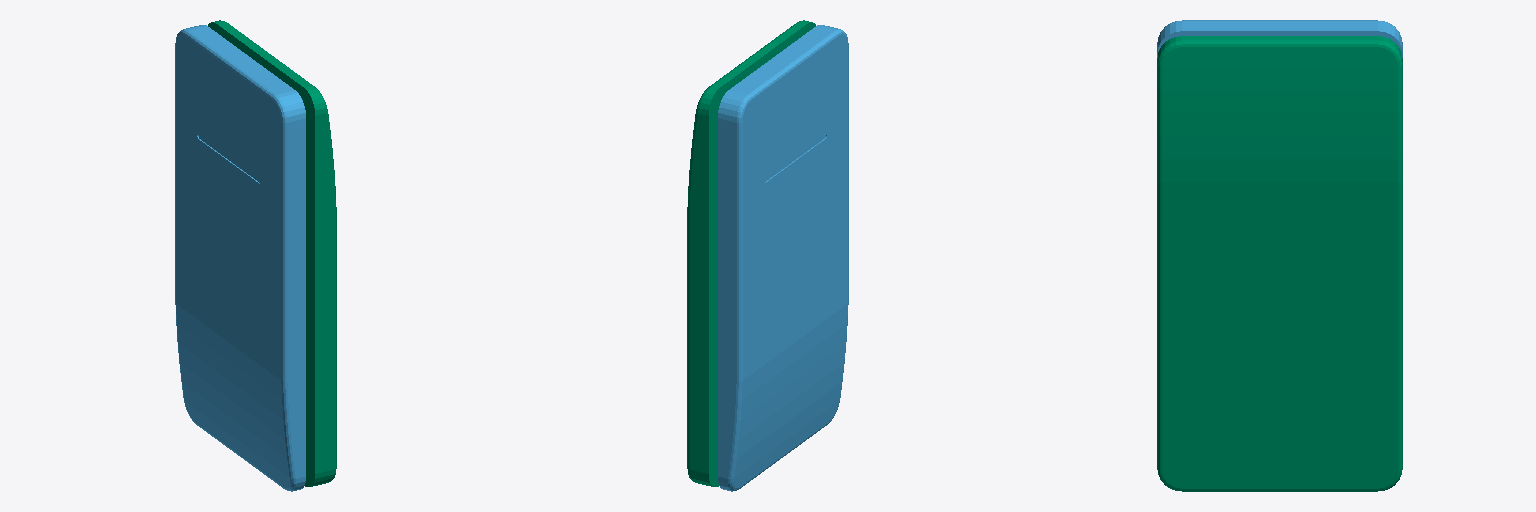
--- What the picture shows (computed from the rendered views, not written in the file) ---
The picture shows the robot from 3 angles, left to right: view 1: azimuth 30°, elevation 25°; view 2: azimuth 150°, elevation 25°; view 3: azimuth 270°, elevation 25°; orthographic projection.
Robot: partnet_86f9108ac5df3150afeee5da21ab102b-0 — 3 links, 2 joints (1 prismatic, 1 fixed); root link base; default pose: all joints at 0.
Visible links, largest first — view 1: link_0, link_1; view 2: link_0, link_1; view 3: link_1, link_0.
Boxes of the visible links, x1=… form: link_0: x1=175, y1=25, x2=305, y2=491; link_1: x1=208, y1=20, x2=336, y2=486; link_0: x1=718, y1=25, x2=848, y2=491; link_1: x1=687, y1=20, x2=815, y2=486; link_1: x1=1157, y1=36, x2=1402, y2=491; link_0: x1=1157, y1=20, x2=1402, y2=57.
Bounding box of the posed robot: 0.2607 × 0.9076 × 1.82 m (x, y, z).
120 mesh visuals loaded from 120 distinct referenced files (120 OBJ).

The robot description file, URDF, robot "partnet_86f9108ac5df3150afeee5da21ab102b-0":
<?xml version="1.0" ?>
<robot name="partnet_86f9108ac5df3150afeee5da21ab102b-0">
	<link name="base"/>
	<link name="link_0">
		<visual name="translation_lid-5">
			<origin xyz="0 0 0"/>
			<geometry>
				<mesh filename="textured_objs/original-119.obj"/>
			</geometry>
		</visual>
		<visual name="translation_lid-5">
			<origin xyz="0 0 0"/>
			<geometry>
				<mesh filename="textured_objs/original-114.obj"/>
			</geometry>
		</visual>
		<visual name="translation_lid-5">
			<origin xyz="0 0 0"/>
			<geometry>
				<mesh filename="textured_objs/original-112.obj"/>
			</geometry>
		</visual>
		<visual name="translation_lid-5">
			<origin xyz="0 0 0"/>
			<geometry>
				<mesh filename="textured_objs/original-115.obj"/>
			</geometry>
		</visual>
		<visual name="translation_lid-5">
			<origin xyz="0 0 0"/>
			<geometry>
				<mesh filename="textured_objs/original-122.obj"/>
			</geometry>
		</visual>
		<visual name="translation_lid-5">
			<origin xyz="0 0 0"/>
			<geometry>
				<mesh filename="textured_objs/original-121.obj"/>
			</geometry>
		</visual>
		<visual name="translation_lid-5">
			<origin xyz="0 0 0"/>
			<geometry>
				<mesh filename="textured_objs/original-113.obj"/>
			</geometry>
		</visual>
		<visual name="translation_lid-5">
			<origin xyz="0 0 0"/>
			<geometry>
				<mesh filename="textured_objs/original-107.obj"/>
			</geometry>
		</visual>
		<visual name="translation_lid-5">
			<origin xyz="0 0 0"/>
			<geometry>
				<mesh filename="textured_objs/original-106.obj"/>
			</geometry>
		</visual>
		<visual name="translation_lid-5">
			<origin xyz="0 0 0"/>
			<geometry>
				<mesh filename="textured_objs/original-120.obj"/>
			</geometry>
		</visual>
		<visual name="translation_lid-5">
			<origin xyz="0 0 0"/>
			<geometry>
				<mesh filename="textured_objs/original-116.obj"/>
			</geometry>
		</visual>
		<visual name="translation_lid-5">
			<origin xyz="0 0 0"/>
			<geometry>
				<mesh filename="textured_objs/original-109.obj"/>
			</geometry>
		</visual>
		<visual name="translation_lid-5">
			<origin xyz="0 0 0"/>
			<geometry>
				<mesh filename="textured_objs/original-111.obj"/>
			</geometry>
		</visual>
		<visual name="translation_lid-5">
			<origin xyz="0 0 0"/>
			<geometry>
				<mesh filename="textured_objs/original-118.obj"/>
			</geometry>
		</visual>
		<visual name="translation_lid-5">
			<origin xyz="0 0 0"/>
			<geometry>
				<mesh filename="textured_objs/original-108.obj"/>
			</geometry>
		</visual>
		<visual name="translation_lid-5">
			<origin xyz="0 0 0"/>
			<geometry>
				<mesh filename="textured_objs/original-117.obj"/>
			</geometry>
		</visual>
		<visual name="translation_lid-5">
			<origin xyz="0 0 0"/>
			<geometry>
				<mesh filename="textured_objs/original-110.obj"/>
			</geometry>
		</visual>
		<collision>
			<origin xyz="0 0 0"/>
			<geometry>
				<mesh filename="textured_objs/original-119.obj"/>
			</geometry>
		</collision>
		<collision>
			<origin xyz="0 0 0"/>
			<geometry>
				<mesh filename="textured_objs/original-114.obj"/>
			</geometry>
		</collision>
		<collision>
			<origin xyz="0 0 0"/>
			<geometry>
				<mesh filename="textured_objs/original-112.obj"/>
			</geometry>
		</collision>
		<collision>
			<origin xyz="0 0 0"/>
			<geometry>
				<mesh filename="textured_objs/original-115.obj"/>
			</geometry>
		</collision>
		<collision>
			<origin xyz="0 0 0"/>
			<geometry>
				<mesh filename="textured_objs/original-122.obj"/>
			</geometry>
		</collision>
		<collision>
			<origin xyz="0 0 0"/>
			<geometry>
				<mesh filename="textured_objs/original-121.obj"/>
			</geometry>
		</collision>
		<collision>
			<origin xyz="0 0 0"/>
			<geometry>
				<mesh filename="textured_objs/original-113.obj"/>
			</geometry>
		</collision>
		<collision>
			<origin xyz="0 0 0"/>
			<geometry>
				<mesh filename="textured_objs/original-107.obj"/>
			</geometry>
		</collision>
		<collision>
			<origin xyz="0 0 0"/>
			<geometry>
				<mesh filename="textured_objs/original-106.obj"/>
			</geometry>
		</collision>
		<collision>
			<origin xyz="0 0 0"/>
			<geometry>
				<mesh filename="textured_objs/original-120.obj"/>
			</geometry>
		</collision>
		<collision>
			<origin xyz="0 0 0"/>
			<geometry>
				<mesh filename="textured_objs/original-116.obj"/>
			</geometry>
		</collision>
		<collision>
			<origin xyz="0 0 0"/>
			<geometry>
				<mesh filename="textured_objs/original-109.obj"/>
			</geometry>
		</collision>
		<collision>
			<origin xyz="0 0 0"/>
			<geometry>
				<mesh filename="textured_objs/original-111.obj"/>
			</geometry>
		</collision>
		<collision>
			<origin xyz="0 0 0"/>
			<geometry>
				<mesh filename="textured_objs/original-118.obj"/>
			</geometry>
		</collision>
		<collision>
			<origin xyz="0 0 0"/>
			<geometry>
				<mesh filename="textured_objs/original-108.obj"/>
			</geometry>
		</collision>
		<collision>
			<origin xyz="0 0 0"/>
			<geometry>
				<mesh filename="textured_objs/original-117.obj"/>
			</geometry>
		</collision>
		<collision>
			<origin xyz="0 0 0"/>
			<geometry>
				<mesh filename="textured_objs/original-110.obj"/>
			</geometry>
		</collision>
	</link>
	<joint name="joint_0" type="prismatic">
		<origin xyz="0 0 0"/>
		<axis xyz="0 1 0"/>
		<child link="link_0"/>
		<parent link="link_1"/>
		<limit lower="0" upper="1.6"/>
	</joint>
	<link name="link_1">
		<visual name="button-1">
			<origin xyz="0 0 0"/>
			<geometry>
				<mesh filename="textured_objs/original-53.obj"/>
			</geometry>
		</visual>
		<visual name="button-1">
			<origin xyz="0 0 0"/>
			<geometry>
				<mesh filename="textured_objs/original-68.obj"/>
			</geometry>
		</visual>
		<visual name="button-1">
			<origin xyz="0 0 0"/>
			<geometry>
				<mesh filename="textured_objs/original-55.obj"/>
			</geometry>
		</visual>
		<visual name="button-1">
			<origin xyz="0 0 0"/>
			<geometry>
				<mesh filename="textured_objs/original-66.obj"/>
			</geometry>
		</visual>
		<visual name="button-2">
			<origin xyz="0 0 0"/>
			<geometry>
				<mesh filename="textured_objs/original-3.obj"/>
			</geometry>
		</visual>
		<visual name="button-3">
			<origin xyz="0 0 0"/>
			<geometry>
				<mesh filename="textured_objs/original-54.obj"/>
			</geometry>
		</visual>
		<visual name="button-3">
			<origin xyz="0 0 0"/>
			<geometry>
				<mesh filename="textured_objs/original-65.obj"/>
			</geometry>
		</visual>
		<visual name="button-4">
			<origin xyz="0 0 0"/>
			<geometry>
				<mesh filename="textured_objs/original-69.obj"/>
			</geometry>
		</visual>
		<visual name="button-6">
			<origin xyz="0 0 0"/>
			<geometry>
				<mesh filename="textured_objs/original-67.obj"/>
			</geometry>
		</visual>
		<visual name="base_body-7">
			<origin xyz="0 0 0"/>
			<geometry>
				<mesh filename="textured_objs/original-29.obj"/>
			</geometry>
		</visual>
		<visual name="base_body-7">
			<origin xyz="0 0 0"/>
			<geometry>
				<mesh filename="textured_objs/original-103.obj"/>
			</geometry>
		</visual>
		<visual name="base_body-7">
			<origin xyz="0 0 0"/>
			<geometry>
				<mesh filename="textured_objs/original-100.obj"/>
			</geometry>
		</visual>
		<visual name="base_body-7">
			<origin xyz="0 0 0"/>
			<geometry>
				<mesh filename="textured_objs/original-21.obj"/>
			</geometry>
		</visual>
		<visual name="base_body-7">
			<origin xyz="0 0 0"/>
			<geometry>
				<mesh filename="textured_objs/original-30.obj"/>
			</geometry>
		</visual>
		<visual name="base_body-7">
			<origin xyz="0 0 0"/>
			<geometry>
				<mesh filename="textured_objs/original-36.obj"/>
			</geometry>
		</visual>
		<visual name="base_body-7">
			<origin xyz="0 0 0"/>
			<geometry>
				<mesh filename="textured_objs/original-41.obj"/>
			</geometry>
		</visual>
		<visual name="base_body-7">
			<origin xyz="0 0 0"/>
			<geometry>
				<mesh filename="textured_objs/original-28.obj"/>
			</geometry>
		</visual>
		<visual name="base_body-7">
			<origin xyz="0 0 0"/>
			<geometry>
				<mesh filename="textured_objs/original-96.obj"/>
			</geometry>
		</visual>
		<visual name="base_body-7">
			<origin xyz="0 0 0"/>
			<geometry>
				<mesh filename="textured_objs/original-64.obj"/>
			</geometry>
		</visual>
		<visual name="base_body-7">
			<origin xyz="0 0 0"/>
			<geometry>
				<mesh filename="textured_objs/original-43.obj"/>
			</geometry>
		</visual>
		<visual name="base_body-7">
			<origin xyz="0 0 0"/>
			<geometry>
				<mesh filename="textured_objs/original-71.obj"/>
			</geometry>
		</visual>
		<visual name="base_body-7">
			<origin xyz="0 0 0"/>
			<geometry>
				<mesh filename="textured_objs/original-52.obj"/>
			</geometry>
		</visual>
		<visual name="base_body-7">
			<origin xyz="0 0 0"/>
			<geometry>
				<mesh filename="textured_objs/original-83.obj"/>
			</geometry>
		</visual>
		<visual name="base_body-7">
			<origin xyz="0 0 0"/>
			<geometry>
				<mesh filename="textured_objs/original-22.obj"/>
			</geometry>
		</visual>
		<visual name="base_body-7">
			<origin xyz="0 0 0"/>
			<geometry>
				<mesh filename="textured_objs/original-26.obj"/>
			</geometry>
		</visual>
		<visual name="base_body-7">
			<origin xyz="0 0 0"/>
			<geometry>
				<mesh filename="textured_objs/original-104.obj"/>
			</geometry>
		</visual>
		<visual name="base_body-7">
			<origin xyz="0 0 0"/>
			<geometry>
				<mesh filename="textured_objs/original-4.obj"/>
			</geometry>
		</visual>
		<visual name="base_body-7">
			<origin xyz="0 0 0"/>
			<geometry>
				<mesh filename="textured_objs/original-33.obj"/>
			</geometry>
		</visual>
		<visual name="base_body-7">
			<origin xyz="0 0 0"/>
			<geometry>
				<mesh filename="textured_objs/original-44.obj"/>
			</geometry>
		</visual>
		<visual name="base_body-7">
			<origin xyz="0 0 0"/>
			<geometry>
				<mesh filename="textured_objs/original-16.obj"/>
			</geometry>
		</visual>
		<visual name="base_body-7">
			<origin xyz="0 0 0"/>
			<geometry>
				<mesh filename="textured_objs/original-86.obj"/>
			</geometry>
		</visual>
		<visual name="base_body-7">
			<origin xyz="0 0 0"/>
			<geometry>
				<mesh filename="textured_objs/original-8.obj"/>
			</geometry>
		</visual>
		<visual name="base_body-7">
			<origin xyz="0 0 0"/>
			<geometry>
				<mesh filename="textured_objs/original-13.obj"/>
			</geometry>
		</visual>
		<visual name="base_body-7">
			<origin xyz="0 0 0"/>
			<geometry>
				<mesh filename="textured_objs/original-9.obj"/>
			</geometry>
		</visual>
		<visual name="base_body-7">
			<origin xyz="0 0 0"/>
			<geometry>
				<mesh filename="textured_objs/original-45.obj"/>
			</geometry>
		</visual>
		<visual name="base_body-7">
			<origin xyz="0 0 0"/>
			<geometry>
				<mesh filename="textured_objs/original-35.obj"/>
			</geometry>
		</visual>
		<visual name="base_body-7">
			<origin xyz="0 0 0"/>
			<geometry>
				<mesh filename="textured_objs/original-49.obj"/>
			</geometry>
		</visual>
		<visual name="base_body-7">
			<origin xyz="0 0 0"/>
			<geometry>
				<mesh filename="textured_objs/original-93.obj"/>
			</geometry>
		</visual>
		<visual name="base_body-7">
			<origin xyz="0 0 0"/>
			<geometry>
				<mesh filename="textured_objs/original-61.obj"/>
			</geometry>
		</visual>
		<visual name="base_body-7">
			<origin xyz="0 0 0"/>
			<geometry>
				<mesh filename="textured_objs/original-39.obj"/>
			</geometry>
		</visual>
		<visual name="base_body-7">
			<origin xyz="0 0 0"/>
			<geometry>
				<mesh filename="textured_objs/original-59.obj"/>
			</geometry>
		</visual>
		<visual name="base_body-7">
			<origin xyz="0 0 0"/>
			<geometry>
				<mesh filename="textured_objs/original-5.obj"/>
			</geometry>
		</visual>
		<visual name="base_body-7">
			<origin xyz="0 0 0"/>
			<geometry>
				<mesh filename="textured_objs/original-77.obj"/>
			</geometry>
		</visual>
		<visual name="base_body-7">
			<origin xyz="0 0 0"/>
			<geometry>
				<mesh filename="textured_objs/original-63.obj"/>
			</geometry>
		</visual>
		<visual name="base_body-7">
			<origin xyz="0 0 0"/>
			<geometry>
				<mesh filename="textured_objs/original-27.obj"/>
			</geometry>
		</visual>
		<visual name="base_body-7">
			<origin xyz="0 0 0"/>
			<geometry>
				<mesh filename="textured_objs/original-87.obj"/>
			</geometry>
		</visual>
		<visual name="base_body-7">
			<origin xyz="0 0 0"/>
			<geometry>
				<mesh filename="textured_objs/original-51.obj"/>
			</geometry>
		</visual>
		<visual name="base_body-7">
			<origin xyz="0 0 0"/>
			<geometry>
				<mesh filename="textured_objs/original-50.obj"/>
			</geometry>
		</visual>
		<visual name="base_body-7">
			<origin xyz="0 0 0"/>
			<geometry>
				<mesh filename="textured_objs/original-6.obj"/>
			</geometry>
		</visual>
		<visual name="base_body-7">
			<origin xyz="0 0 0"/>
			<geometry>
				<mesh filename="textured_objs/original-31.obj"/>
			</geometry>
		</visual>
		<visual name="base_body-7">
			<origin xyz="0 0 0"/>
			<geometry>
				<mesh filename="textured_objs/original-37.obj"/>
			</geometry>
		</visual>
		<visual name="base_body-7">
			<origin xyz="0 0 0"/>
			<geometry>
				<mesh filename="textured_objs/original-48.obj"/>
			</geometry>
		</visual>
		<visual name="base_body-7">
			<origin xyz="0 0 0"/>
			<geometry>
				<mesh filename="textured_objs/original-15.obj"/>
			</geometry>
		</visual>
		<visual name="base_body-7">
			<origin xyz="0 0 0"/>
			<geometry>
				<mesh filename="textured_objs/original-85.obj"/>
			</geometry>
		</visual>
		<visual name="base_body-7">
			<origin xyz="0 0 0"/>
			<geometry>
				<mesh filename="textured_objs/original-56.obj"/>
			</geometry>
		</visual>
		<visual name="base_body-7">
			<origin xyz="0 0 0"/>
			<geometry>
				<mesh filename="textured_objs/original-76.obj"/>
			</geometry>
		</visual>
		<visual name="base_body-7">
			<origin xyz="0 0 0"/>
			<geometry>
				<mesh filename="textured_objs/original-72.obj"/>
			</geometry>
		</visual>
		<visual name="base_body-7">
			<origin xyz="0 0 0"/>
			<geometry>
				<mesh filename="textured_objs/original-99.obj"/>
			</geometry>
		</visual>
		<visual name="base_body-7">
			<origin xyz="0 0 0"/>
			<geometry>
				<mesh filename="textured_objs/original-62.obj"/>
			</geometry>
		</visual>
		<visual name="base_body-7">
			<origin xyz="0 0 0"/>
			<geometry>
				<mesh filename="textured_objs/original-75.obj"/>
			</geometry>
		</visual>
		<visual name="base_body-7">
			<origin xyz="0 0 0"/>
			<geometry>
				<mesh filename="textured_objs/original-23.obj"/>
			</geometry>
		</visual>
		<visual name="base_body-7">
			<origin xyz="0 0 0"/>
			<geometry>
				<mesh filename="textured_objs/original-58.obj"/>
			</geometry>
		</visual>
		<visual name="base_body-7">
			<origin xyz="0 0 0"/>
			<geometry>
				<mesh filename="textured_objs/original-98.obj"/>
			</geometry>
		</visual>
		<visual name="base_body-7">
			<origin xyz="0 0 0"/>
			<geometry>
				<mesh filename="textured_objs/original-11.obj"/>
			</geometry>
		</visual>
		<visual name="base_body-7">
			<origin xyz="0 0 0"/>
			<geometry>
				<mesh filename="textured_objs/original-38.obj"/>
			</geometry>
		</visual>
		<visual name="base_body-7">
			<origin xyz="0 0 0"/>
			<geometry>
				<mesh filename="textured_objs/original-80.obj"/>
			</geometry>
		</visual>
		<visual name="base_body-7">
			<origin xyz="0 0 0"/>
			<geometry>
				<mesh filename="textured_objs/original-34.obj"/>
			</geometry>
		</visual>
		<visual name="base_body-7">
			<origin xyz="0 0 0"/>
			<geometry>
				<mesh filename="textured_objs/original-18.obj"/>
			</geometry>
		</visual>
		<visual name="base_body-7">
			<origin xyz="0 0 0"/>
			<geometry>
				<mesh filename="textured_objs/original-70.obj"/>
			</geometry>
		</visual>
		<visual name="base_body-7">
			<origin xyz="0 0 0"/>
			<geometry>
				<mesh filename="textured_objs/original-74.obj"/>
			</geometry>
		</visual>
		<visual name="base_body-7">
			<origin xyz="0 0 0"/>
			<geometry>
				<mesh filename="textured_objs/original-91.obj"/>
			</geometry>
		</visual>
		<visual name="base_body-7">
			<origin xyz="0 0 0"/>
			<geometry>
				<mesh filename="textured_objs/original-25.obj"/>
			</geometry>
		</visual>
		<visual name="base_body-7">
			<origin xyz="0 0 0"/>
			<geometry>
				<mesh filename="textured_objs/original-17.obj"/>
			</geometry>
		</visual>
		<visual name="base_body-7">
			<origin xyz="0 0 0"/>
			<geometry>
				<mesh filename="textured_objs/original-73.obj"/>
			</geometry>
		</visual>
		<visual name="base_body-7">
			<origin xyz="0 0 0"/>
			<geometry>
				<mesh filename="textured_objs/original-12.obj"/>
			</geometry>
		</visual>
		<visual name="base_body-7">
			<origin xyz="0 0 0"/>
			<geometry>
				<mesh filename="textured_objs/original-92.obj"/>
			</geometry>
		</visual>
		<visual name="base_body-7">
			<origin xyz="0 0 0"/>
			<geometry>
				<mesh filename="textured_objs/original-42.obj"/>
			</geometry>
		</visual>
		<visual name="base_body-7">
			<origin xyz="0 0 0"/>
			<geometry>
				<mesh filename="textured_objs/original-79.obj"/>
			</geometry>
		</visual>
		<visual name="base_body-7">
			<origin xyz="0 0 0"/>
			<geometry>
				<mesh filename="textured_objs/original-102.obj"/>
			</geometry>
		</visual>
		<visual name="base_body-7">
			<origin xyz="0 0 0"/>
			<geometry>
				<mesh filename="textured_objs/original-24.obj"/>
			</geometry>
		</visual>
		<visual name="base_body-7">
			<origin xyz="0 0 0"/>
			<geometry>
				<mesh filename="textured_objs/original-20.obj"/>
			</geometry>
		</visual>
		<visual name="base_body-7">
			<origin xyz="0 0 0"/>
			<geometry>
				<mesh filename="textured_objs/original-88.obj"/>
			</geometry>
		</visual>
		<visual name="base_body-7">
			<origin xyz="0 0 0"/>
			<geometry>
				<mesh filename="textured_objs/original-32.obj"/>
			</geometry>
		</visual>
		<visual name="base_body-7">
			<origin xyz="0 0 0"/>
			<geometry>
				<mesh filename="textured_objs/original-47.obj"/>
			</geometry>
		</visual>
		<visual name="base_body-7">
			<origin xyz="0 0 0"/>
			<geometry>
				<mesh filename="textured_objs/original-95.obj"/>
			</geometry>
		</visual>
		<visual name="base_body-7">
			<origin xyz="0 0 0"/>
			<geometry>
				<mesh filename="textured_objs/original-7.obj"/>
			</geometry>
		</visual>
		<visual name="base_body-7">
			<origin xyz="0 0 0"/>
			<geometry>
				<mesh filename="textured_objs/original-105.obj"/>
			</geometry>
		</visual>
		<visual name="base_body-7">
			<origin xyz="0 0 0"/>
			<geometry>
				<mesh filename="textured_objs/original-101.obj"/>
			</geometry>
		</visual>
		<visual name="base_body-7">
			<origin xyz="0 0 0"/>
			<geometry>
				<mesh filename="textured_objs/original-81.obj"/>
			</geometry>
		</visual>
		<visual name="base_body-7">
			<origin xyz="0 0 0"/>
			<geometry>
				<mesh filename="textured_objs/original-84.obj"/>
			</geometry>
		</visual>
		<visual name="base_body-7">
			<origin xyz="0 0 0"/>
			<geometry>
				<mesh filename="textured_objs/original-94.obj"/>
			</geometry>
		</visual>
		<visual name="base_body-7">
			<origin xyz="0 0 0"/>
			<geometry>
				<mesh filename="textured_objs/original-78.obj"/>
			</geometry>
		</visual>
		<visual name="base_body-7">
			<origin xyz="0 0 0"/>
			<geometry>
				<mesh filename="textured_objs/original-97.obj"/>
			</geometry>
		</visual>
		<visual name="base_body-7">
			<origin xyz="0 0 0"/>
			<geometry>
				<mesh filename="textured_objs/original-89.obj"/>
			</geometry>
		</visual>
		<visual name="base_body-7">
			<origin xyz="0 0 0"/>
			<geometry>
				<mesh filename="textured_objs/original-10.obj"/>
			</geometry>
		</visual>
		<visual name="base_body-7">
			<origin xyz="0 0 0"/>
			<geometry>
				<mesh filename="textured_objs/original-14.obj"/>
			</geometry>
		</visual>
		<visual name="base_body-7">
			<origin xyz="0 0 0"/>
			<geometry>
				<mesh filename="textured_objs/original-82.obj"/>
			</geometry>
		</visual>
		<visual name="base_body-7">
			<origin xyz="0 0 0"/>
			<geometry>
				<mesh filename="textured_objs/original-60.obj"/>
			</geometry>
		</visual>
		<visual name="base_body-7">
			<origin xyz="0 0 0"/>
			<geometry>
				<mesh filename="textured_objs/original-19.obj"/>
			</geometry>
		</visual>
		<visual name="base_body-7">
			<origin xyz="0 0 0"/>
			<geometry>
				<mesh filename="textured_objs/original-90.obj"/>
			</geometry>
		</visual>
		<visual name="base_body-7">
			<origin xyz="0 0 0"/>
			<geometry>
				<mesh filename="textured_objs/original-40.obj"/>
			</geometry>
		</visual>
		<visual name="base_body-7">
			<origin xyz="0 0 0"/>
			<geometry>
				<mesh filename="textured_objs/original-46.obj"/>
			</geometry>
		</visual>
		<visual name="base_body-7">
			<origin xyz="0 0 0"/>
			<geometry>
				<mesh filename="textured_objs/original-57.obj"/>
			</geometry>
		</visual>
		<collision>
			<origin xyz="0 0 0"/>
			<geometry>
				<mesh filename="textured_objs/original-53.obj"/>
			</geometry>
		</collision>
		<collision>
			<origin xyz="0 0 0"/>
			<geometry>
				<mesh filename="textured_objs/original-68.obj"/>
			</geometry>
		</collision>
		<collision>
			<origin xyz="0 0 0"/>
			<geometry>
				<mesh filename="textured_objs/original-55.obj"/>
			</geometry>
		</collision>
		<collision>
			<origin xyz="0 0 0"/>
			<geometry>
				<mesh filename="textured_objs/original-66.obj"/>
			</geometry>
		</collision>
		<collision>
			<origin xyz="0 0 0"/>
			<geometry>
				<mesh filename="textured_objs/original-3.obj"/>
			</geometry>
		</collision>
		<collision>
			<origin xyz="0 0 0"/>
			<geometry>
				<mesh filename="textured_objs/original-54.obj"/>
			</geometry>
		</collision>
		<collision>
			<origin xyz="0 0 0"/>
			<geometry>
				<mesh filename="textured_objs/original-65.obj"/>
			</geometry>
		</collision>
		<collision>
			<origin xyz="0 0 0"/>
			<geometry>
				<mesh filename="textured_objs/original-69.obj"/>
			</geometry>
		</collision>
		<collision>
			<origin xyz="0 0 0"/>
			<geometry>
				<mesh filename="textured_objs/original-67.obj"/>
			</geometry>
		</collision>
		<collision>
			<origin xyz="0 0 0"/>
			<geometry>
				<mesh filename="textured_objs/original-29.obj"/>
			</geometry>
		</collision>
		<collision>
			<origin xyz="0 0 0"/>
			<geometry>
				<mesh filename="textured_objs/original-103.obj"/>
			</geometry>
		</collision>
		<collision>
			<origin xyz="0 0 0"/>
			<geometry>
				<mesh filename="textured_objs/original-100.obj"/>
			</geometry>
		</collision>
		<collision>
			<origin xyz="0 0 0"/>
			<geometry>
				<mesh filename="textured_objs/original-21.obj"/>
			</geometry>
		</collision>
		<collision>
			<origin xyz="0 0 0"/>
			<geometry>
				<mesh filename="textured_objs/original-30.obj"/>
			</geometry>
		</collision>
		<collision>
			<origin xyz="0 0 0"/>
			<geometry>
				<mesh filename="textured_objs/original-36.obj"/>
			</geometry>
		</collision>
		<collision>
			<origin xyz="0 0 0"/>
			<geometry>
				<mesh filename="textured_objs/original-41.obj"/>
			</geometry>
		</collision>
		<collision>
			<origin xyz="0 0 0"/>
			<geometry>
				<mesh filename="textured_objs/original-28.obj"/>
			</geometry>
		</collision>
		<collision>
			<origin xyz="0 0 0"/>
			<geometry>
				<mesh filename="textured_objs/original-96.obj"/>
			</geometry>
		</collision>
		<collision>
			<origin xyz="0 0 0"/>
			<geometry>
				<mesh filename="textured_objs/original-64.obj"/>
			</geometry>
		</collision>
		<collision>
			<origin xyz="0 0 0"/>
			<geometry>
				<mesh filename="textured_objs/original-43.obj"/>
			</geometry>
		</collision>
		<collision>
			<origin xyz="0 0 0"/>
			<geometry>
				<mesh filename="textured_objs/original-71.obj"/>
			</geometry>
		</collision>
		<collision>
			<origin xyz="0 0 0"/>
			<geometry>
				<mesh filename="textured_objs/original-52.obj"/>
			</geometry>
		</collision>
		<collision>
			<origin xyz="0 0 0"/>
			<geometry>
				<mesh filename="textured_objs/original-83.obj"/>
			</geometry>
		</collision>
		<collision>
			<origin xyz="0 0 0"/>
			<geometry>
				<mesh filename="textured_objs/original-22.obj"/>
			</geometry>
		</collision>
		<collision>
			<origin xyz="0 0 0"/>
			<geometry>
				<mesh filename="textured_objs/original-26.obj"/>
			</geometry>
		</collision>
		<collision>
			<origin xyz="0 0 0"/>
			<geometry>
				<mesh filename="textured_objs/original-104.obj"/>
			</geometry>
		</collision>
		<collision>
			<origin xyz="0 0 0"/>
			<geometry>
				<mesh filename="textured_objs/original-4.obj"/>
			</geometry>
		</collision>
		<collision>
			<origin xyz="0 0 0"/>
			<geometry>
				<mesh filename="textured_objs/original-33.obj"/>
			</geometry>
		</collision>
		<collision>
			<origin xyz="0 0 0"/>
			<geometry>
				<mesh filename="textured_objs/original-44.obj"/>
			</geometry>
		</collision>
		<collision>
			<origin xyz="0 0 0"/>
			<geometry>
				<mesh filename="textured_objs/original-16.obj"/>
			</geometry>
		</collision>
		<collision>
			<origin xyz="0 0 0"/>
			<geometry>
				<mesh filename="textured_objs/original-86.obj"/>
			</geometry>
		</collision>
		<collision>
			<origin xyz="0 0 0"/>
			<geometry>
				<mesh filename="textured_objs/original-8.obj"/>
			</geometry>
		</collision>
		<collision>
			<origin xyz="0 0 0"/>
			<geometry>
				<mesh filename="textured_objs/original-13.obj"/>
			</geometry>
		</collision>
		<collision>
			<origin xyz="0 0 0"/>
			<geometry>
				<mesh filename="textured_objs/original-9.obj"/>
			</geometry>
		</collision>
		<collision>
			<origin xyz="0 0 0"/>
			<geometry>
				<mesh filename="textured_objs/original-45.obj"/>
			</geometry>
		</collision>
		<collision>
			<origin xyz="0 0 0"/>
			<geometry>
				<mesh filename="textured_objs/original-35.obj"/>
			</geometry>
		</collision>
		<collision>
			<origin xyz="0 0 0"/>
			<geometry>
				<mesh filename="textured_objs/original-49.obj"/>
			</geometry>
		</collision>
		<collision>
			<origin xyz="0 0 0"/>
			<geometry>
				<mesh filename="textured_objs/original-93.obj"/>
			</geometry>
		</collision>
		<collision>
			<origin xyz="0 0 0"/>
			<geometry>
				<mesh filename="textured_objs/original-61.obj"/>
			</geometry>
		</collision>
		<collision>
			<origin xyz="0 0 0"/>
			<geometry>
				<mesh filename="textured_objs/original-39.obj"/>
			</geometry>
		</collision>
		<collision>
			<origin xyz="0 0 0"/>
			<geometry>
				<mesh filename="textured_objs/original-59.obj"/>
			</geometry>
		</collision>
		<collision>
			<origin xyz="0 0 0"/>
			<geometry>
				<mesh filename="textured_objs/original-5.obj"/>
			</geometry>
		</collision>
		<collision>
			<origin xyz="0 0 0"/>
			<geometry>
				<mesh filename="textured_objs/original-77.obj"/>
			</geometry>
		</collision>
		<collision>
			<origin xyz="0 0 0"/>
			<geometry>
				<mesh filename="textured_objs/original-63.obj"/>
			</geometry>
		</collision>
		<collision>
			<origin xyz="0 0 0"/>
			<geometry>
				<mesh filename="textured_objs/original-27.obj"/>
			</geometry>
		</collision>
		<collision>
			<origin xyz="0 0 0"/>
			<geometry>
				<mesh filename="textured_objs/original-87.obj"/>
			</geometry>
		</collision>
		<collision>
			<origin xyz="0 0 0"/>
			<geometry>
				<mesh filename="textured_objs/original-51.obj"/>
			</geometry>
		</collision>
		<collision>
			<origin xyz="0 0 0"/>
			<geometry>
				<mesh filename="textured_objs/original-50.obj"/>
			</geometry>
		</collision>
		<collision>
			<origin xyz="0 0 0"/>
			<geometry>
				<mesh filename="textured_objs/original-6.obj"/>
			</geometry>
		</collision>
		<collision>
			<origin xyz="0 0 0"/>
			<geometry>
				<mesh filename="textured_objs/original-31.obj"/>
			</geometry>
		</collision>
		<collision>
			<origin xyz="0 0 0"/>
			<geometry>
				<mesh filename="textured_objs/original-37.obj"/>
			</geometry>
		</collision>
		<collision>
			<origin xyz="0 0 0"/>
			<geometry>
				<mesh filename="textured_objs/original-48.obj"/>
			</geometry>
		</collision>
		<collision>
			<origin xyz="0 0 0"/>
			<geometry>
				<mesh filename="textured_objs/original-15.obj"/>
			</geometry>
		</collision>
		<collision>
			<origin xyz="0 0 0"/>
			<geometry>
				<mesh filename="textured_objs/original-85.obj"/>
			</geometry>
		</collision>
		<collision>
			<origin xyz="0 0 0"/>
			<geometry>
				<mesh filename="textured_objs/original-56.obj"/>
			</geometry>
		</collision>
		<collision>
			<origin xyz="0 0 0"/>
			<geometry>
				<mesh filename="textured_objs/original-76.obj"/>
			</geometry>
		</collision>
		<collision>
			<origin xyz="0 0 0"/>
			<geometry>
				<mesh filename="textured_objs/original-72.obj"/>
			</geometry>
		</collision>
		<collision>
			<origin xyz="0 0 0"/>
			<geometry>
				<mesh filename="textured_objs/original-99.obj"/>
			</geometry>
		</collision>
		<collision>
			<origin xyz="0 0 0"/>
			<geometry>
				<mesh filename="textured_objs/original-62.obj"/>
			</geometry>
		</collision>
		<collision>
			<origin xyz="0 0 0"/>
			<geometry>
				<mesh filename="textured_objs/original-75.obj"/>
			</geometry>
		</collision>
		<collision>
			<origin xyz="0 0 0"/>
			<geometry>
				<mesh filename="textured_objs/original-23.obj"/>
			</geometry>
		</collision>
		<collision>
			<origin xyz="0 0 0"/>
			<geometry>
				<mesh filename="textured_objs/original-58.obj"/>
			</geometry>
		</collision>
		<collision>
			<origin xyz="0 0 0"/>
			<geometry>
				<mesh filename="textured_objs/original-98.obj"/>
			</geometry>
		</collision>
		<collision>
			<origin xyz="0 0 0"/>
			<geometry>
				<mesh filename="textured_objs/original-11.obj"/>
			</geometry>
		</collision>
		<collision>
			<origin xyz="0 0 0"/>
			<geometry>
				<mesh filename="textured_objs/original-38.obj"/>
			</geometry>
		</collision>
		<collision>
			<origin xyz="0 0 0"/>
			<geometry>
				<mesh filename="textured_objs/original-80.obj"/>
			</geometry>
		</collision>
		<collision>
			<origin xyz="0 0 0"/>
			<geometry>
				<mesh filename="textured_objs/original-34.obj"/>
			</geometry>
		</collision>
		<collision>
			<origin xyz="0 0 0"/>
			<geometry>
				<mesh filename="textured_objs/original-18.obj"/>
			</geometry>
		</collision>
		<collision>
			<origin xyz="0 0 0"/>
			<geometry>
				<mesh filename="textured_objs/original-70.obj"/>
			</geometry>
		</collision>
		<collision>
			<origin xyz="0 0 0"/>
			<geometry>
				<mesh filename="textured_objs/original-74.obj"/>
			</geometry>
		</collision>
		<collision>
			<origin xyz="0 0 0"/>
			<geometry>
				<mesh filename="textured_objs/original-91.obj"/>
			</geometry>
		</collision>
		<collision>
			<origin xyz="0 0 0"/>
			<geometry>
				<mesh filename="textured_objs/original-25.obj"/>
			</geometry>
		</collision>
		<collision>
			<origin xyz="0 0 0"/>
			<geometry>
				<mesh filename="textured_objs/original-17.obj"/>
			</geometry>
		</collision>
		<collision>
			<origin xyz="0 0 0"/>
			<geometry>
				<mesh filename="textured_objs/original-73.obj"/>
			</geometry>
		</collision>
		<collision>
			<origin xyz="0 0 0"/>
			<geometry>
				<mesh filename="textured_objs/original-12.obj"/>
			</geometry>
		</collision>
		<collision>
			<origin xyz="0 0 0"/>
			<geometry>
				<mesh filename="textured_objs/original-92.obj"/>
			</geometry>
		</collision>
		<collision>
			<origin xyz="0 0 0"/>
			<geometry>
				<mesh filename="textured_objs/original-42.obj"/>
			</geometry>
		</collision>
		<collision>
			<origin xyz="0 0 0"/>
			<geometry>
				<mesh filename="textured_objs/original-79.obj"/>
			</geometry>
		</collision>
		<collision>
			<origin xyz="0 0 0"/>
			<geometry>
				<mesh filename="textured_objs/original-102.obj"/>
			</geometry>
		</collision>
		<collision>
			<origin xyz="0 0 0"/>
			<geometry>
				<mesh filename="textured_objs/original-24.obj"/>
			</geometry>
		</collision>
		<collision>
			<origin xyz="0 0 0"/>
			<geometry>
				<mesh filename="textured_objs/original-20.obj"/>
			</geometry>
		</collision>
		<collision>
			<origin xyz="0 0 0"/>
			<geometry>
				<mesh filename="textured_objs/original-88.obj"/>
			</geometry>
		</collision>
		<collision>
			<origin xyz="0 0 0"/>
			<geometry>
				<mesh filename="textured_objs/original-32.obj"/>
			</geometry>
		</collision>
		<collision>
			<origin xyz="0 0 0"/>
			<geometry>
				<mesh filename="textured_objs/original-47.obj"/>
			</geometry>
		</collision>
		<collision>
			<origin xyz="0 0 0"/>
			<geometry>
				<mesh filename="textured_objs/original-95.obj"/>
			</geometry>
		</collision>
		<collision>
			<origin xyz="0 0 0"/>
			<geometry>
				<mesh filename="textured_objs/original-7.obj"/>
			</geometry>
		</collision>
		<collision>
			<origin xyz="0 0 0"/>
			<geometry>
				<mesh filename="textured_objs/original-105.obj"/>
			</geometry>
		</collision>
		<collision>
			<origin xyz="0 0 0"/>
			<geometry>
				<mesh filename="textured_objs/original-101.obj"/>
			</geometry>
		</collision>
		<collision>
			<origin xyz="0 0 0"/>
			<geometry>
				<mesh filename="textured_objs/original-81.obj"/>
			</geometry>
		</collision>
		<collision>
			<origin xyz="0 0 0"/>
			<geometry>
				<mesh filename="textured_objs/original-84.obj"/>
			</geometry>
		</collision>
		<collision>
			<origin xyz="0 0 0"/>
			<geometry>
				<mesh filename="textured_objs/original-94.obj"/>
			</geometry>
		</collision>
		<collision>
			<origin xyz="0 0 0"/>
			<geometry>
				<mesh filename="textured_objs/original-78.obj"/>
			</geometry>
		</collision>
		<collision>
			<origin xyz="0 0 0"/>
			<geometry>
				<mesh filename="textured_objs/original-97.obj"/>
			</geometry>
		</collision>
		<collision>
			<origin xyz="0 0 0"/>
			<geometry>
				<mesh filename="textured_objs/original-89.obj"/>
			</geometry>
		</collision>
		<collision>
			<origin xyz="0 0 0"/>
			<geometry>
				<mesh filename="textured_objs/original-10.obj"/>
			</geometry>
		</collision>
		<collision>
			<origin xyz="0 0 0"/>
			<geometry>
				<mesh filename="textured_objs/original-14.obj"/>
			</geometry>
		</collision>
		<collision>
			<origin xyz="0 0 0"/>
			<geometry>
				<mesh filename="textured_objs/original-82.obj"/>
			</geometry>
		</collision>
		<collision>
			<origin xyz="0 0 0"/>
			<geometry>
				<mesh filename="textured_objs/original-60.obj"/>
			</geometry>
		</collision>
		<collision>
			<origin xyz="0 0 0"/>
			<geometry>
				<mesh filename="textured_objs/original-19.obj"/>
			</geometry>
		</collision>
		<collision>
			<origin xyz="0 0 0"/>
			<geometry>
				<mesh filename="textured_objs/original-90.obj"/>
			</geometry>
		</collision>
		<collision>
			<origin xyz="0 0 0"/>
			<geometry>
				<mesh filename="textured_objs/original-40.obj"/>
			</geometry>
		</collision>
		<collision>
			<origin xyz="0 0 0"/>
			<geometry>
				<mesh filename="textured_objs/original-46.obj"/>
			</geometry>
		</collision>
		<collision>
			<origin xyz="0 0 0"/>
			<geometry>
				<mesh filename="textured_objs/original-57.obj"/>
			</geometry>
		</collision>
	</link>
	<joint name="joint_1" type="fixed">
		<origin rpy="1.570796326794897 0 -1.570796326794897" xyz="0 0 0"/>
		<child link="link_1"/>
		<parent link="base"/>
	</joint>
</robot>
